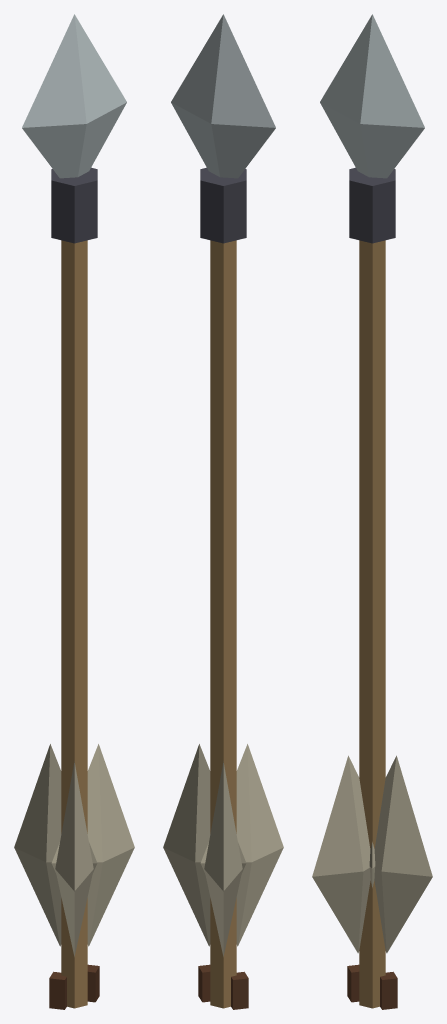
Rendered from weapon_arrow.glb.
3 renders of one model, left to right at view 1: azimuth 30°, elevation 25°; view 2: azimuth 150°, elevation 25°; view 3: azimuth 330°, elevation 25°, orthographic.
Visible parts, largest first — view 1: weapon_arrow; view 2: weapon_arrow; view 3: weapon_arrow.
Part boxes in pixels (x1=…): weapon_arrow: x1=14, y1=14, x2=134, y2=1009; weapon_arrow: x1=163, y1=14, x2=283, y2=1009; weapon_arrow: x1=312, y1=14, x2=432, y2=1009.
Size of the model in its own units: 0.103 by 0.86 by 0.0953.
